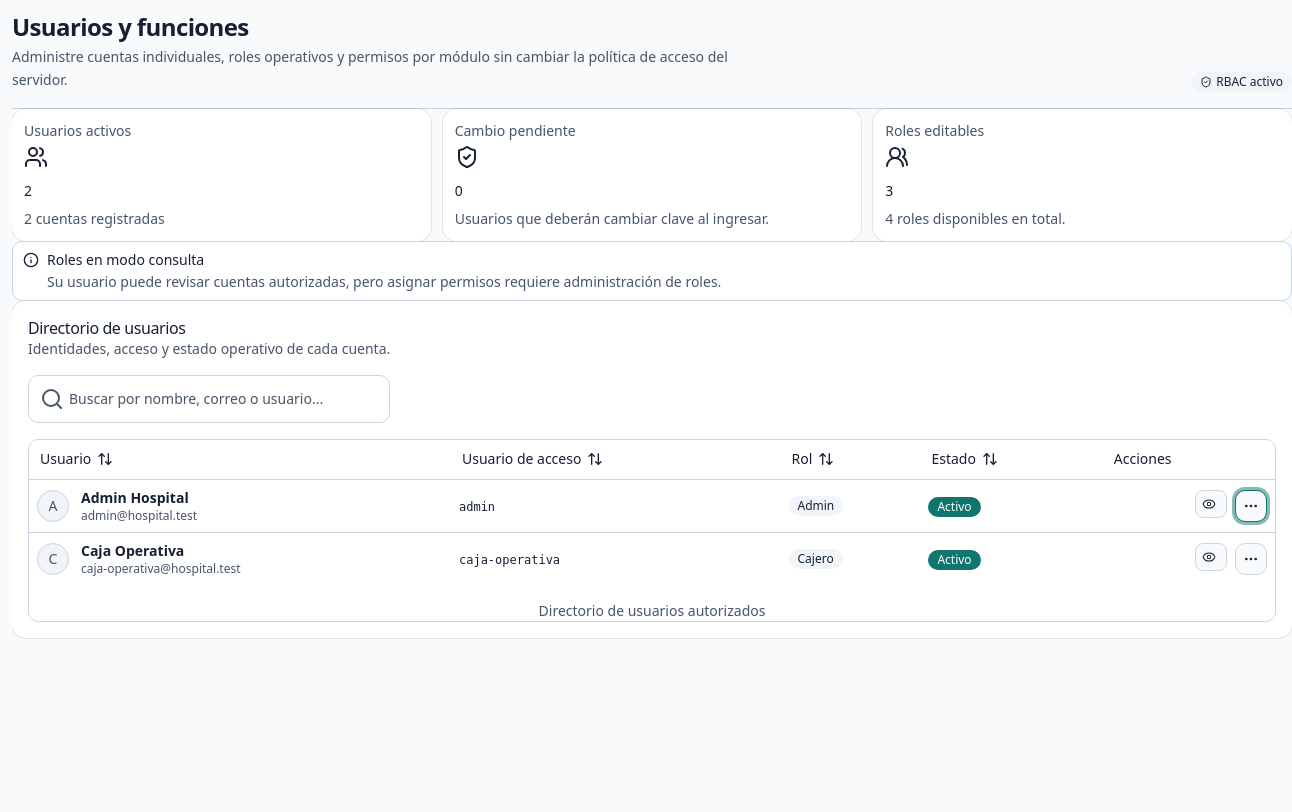
Test: UsersView › does not expose deactivation for the only active administrator
Click the button named "Acciones de usuario Admin Hospital".
click(1251, 506)  # box [1235,490,1267,522]
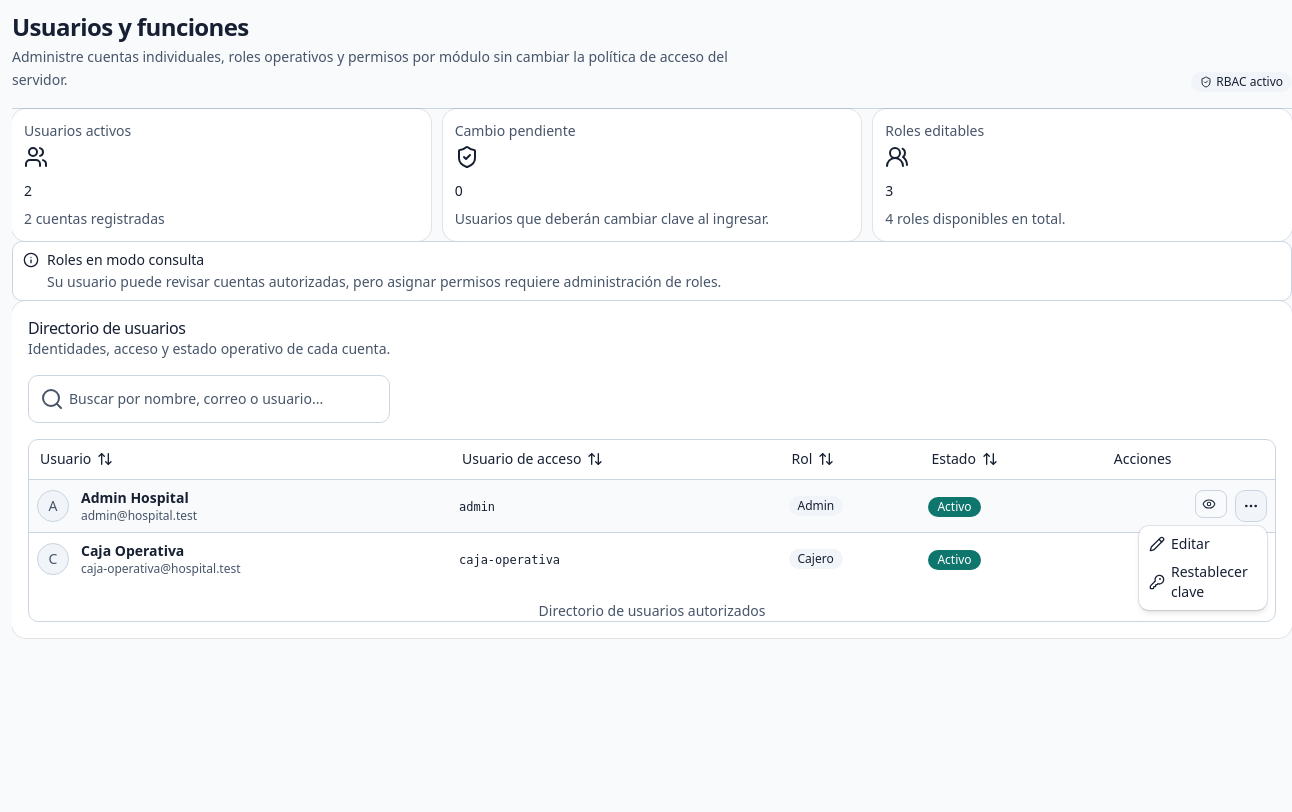
Expected: the menu item "Editar" is shown, [1149,534,1210,553]
Expected: the menu item "Restablecer clave" is shown, [1149,562,1248,601]
